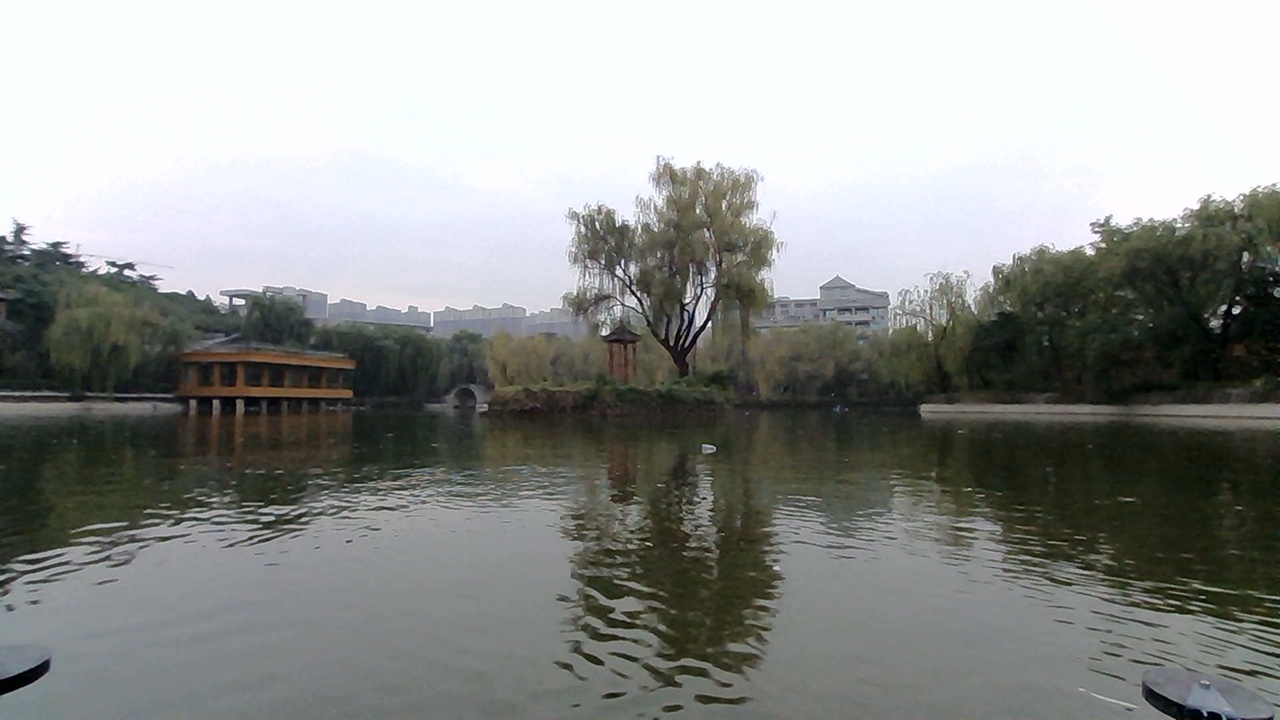bottle: (691, 427, 746, 459)
